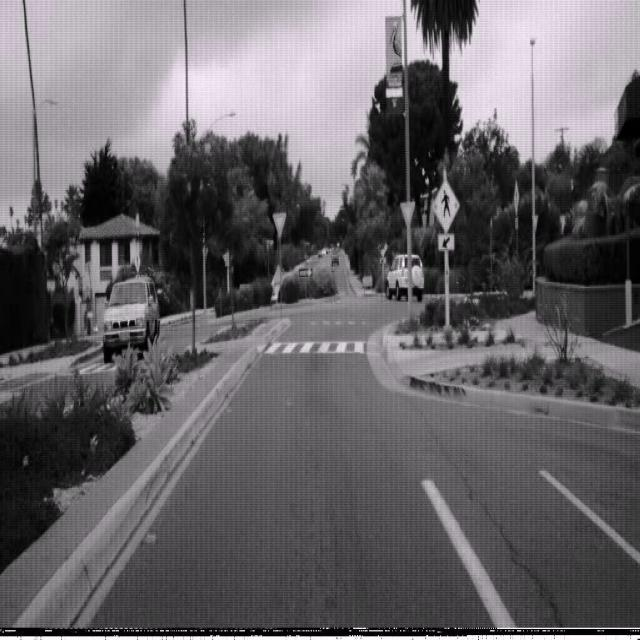pedestrianCrossing: (431, 177, 460, 233)
yield: (400, 200, 416, 229), (272, 210, 286, 238)
